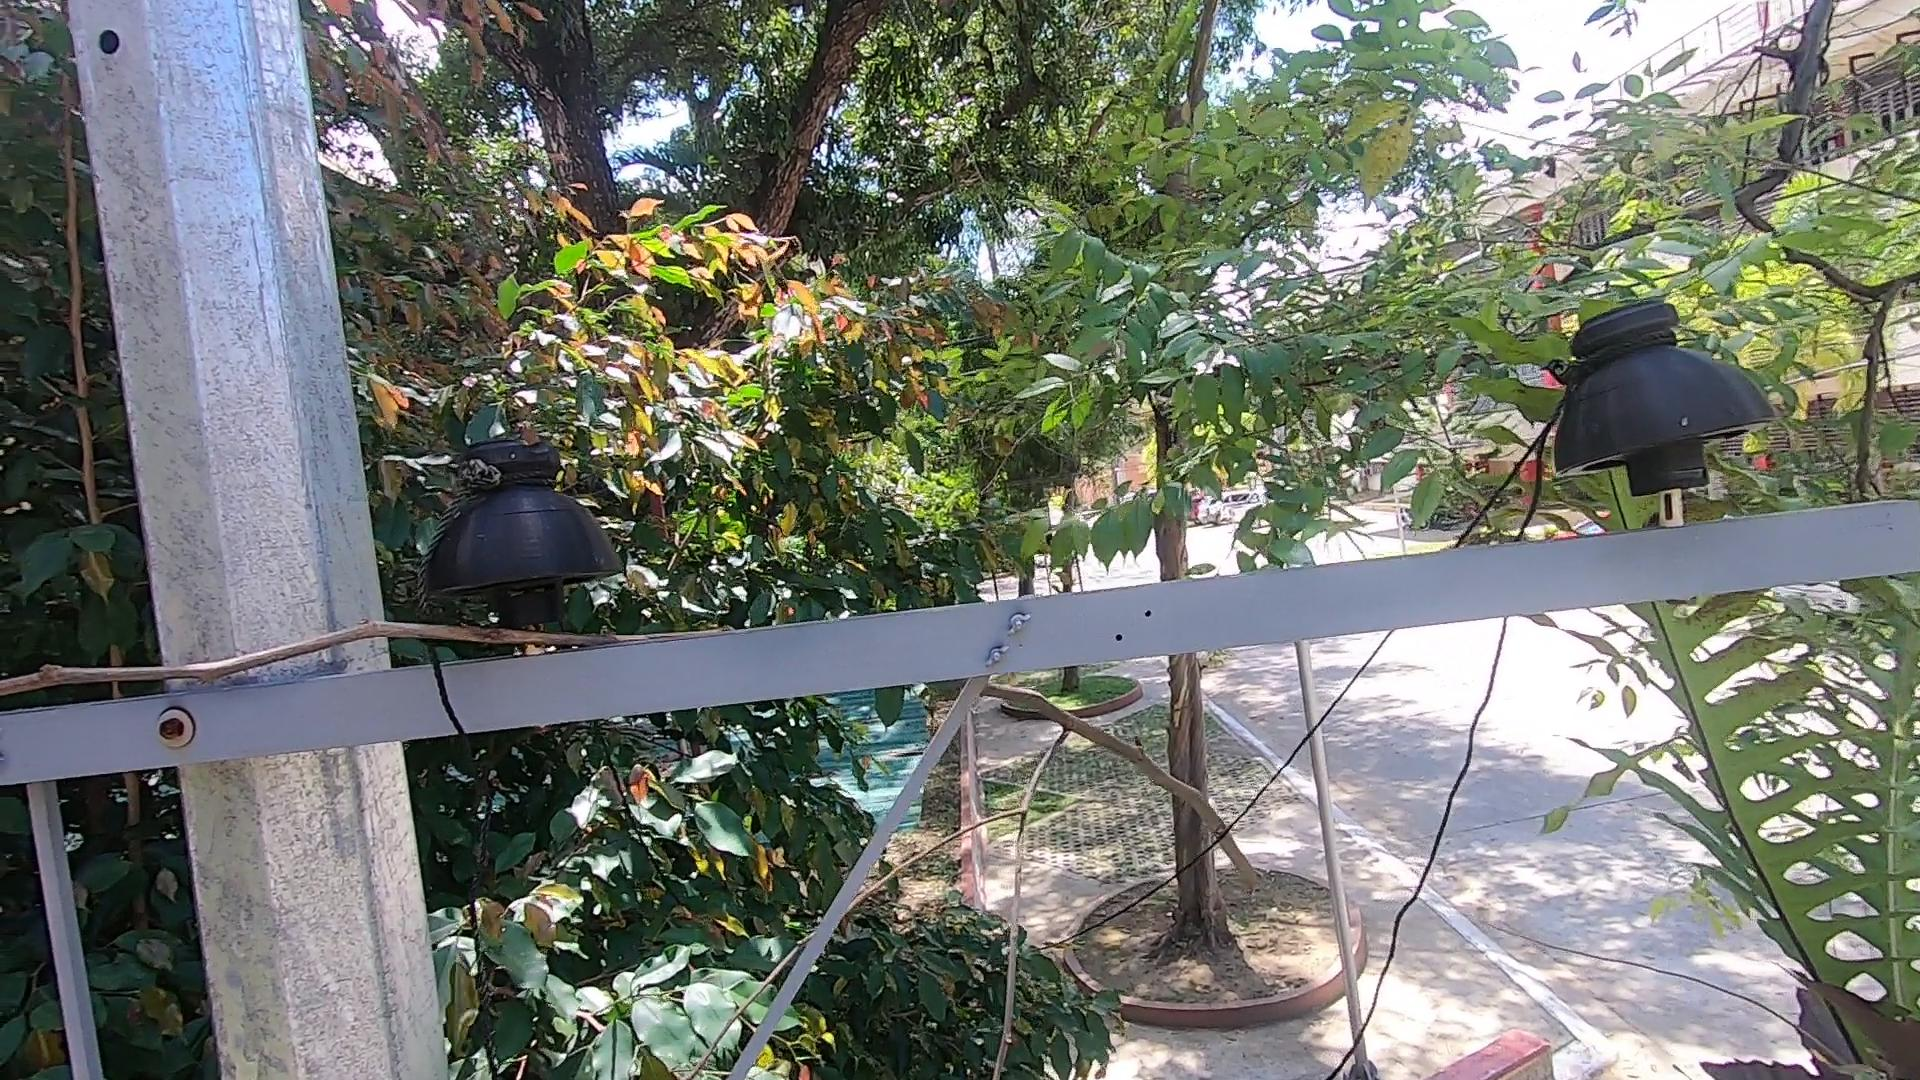tree branch: (12, 601, 1303, 926)
